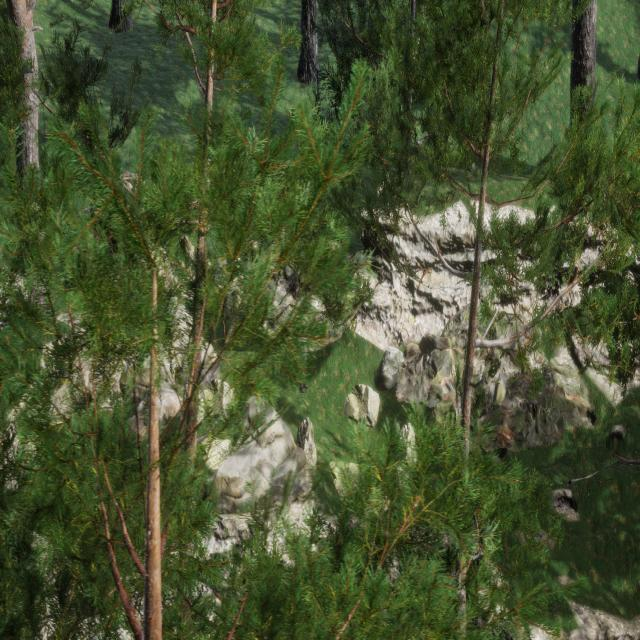Human: (290, 279, 321, 309)
